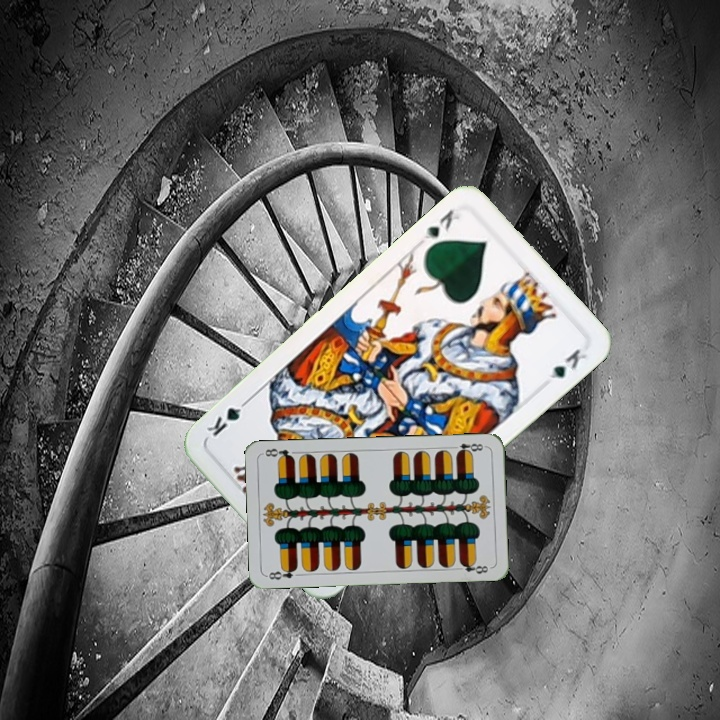E8: (448, 439, 488, 457), (264, 563, 300, 582)
GK: (421, 205, 463, 243)
